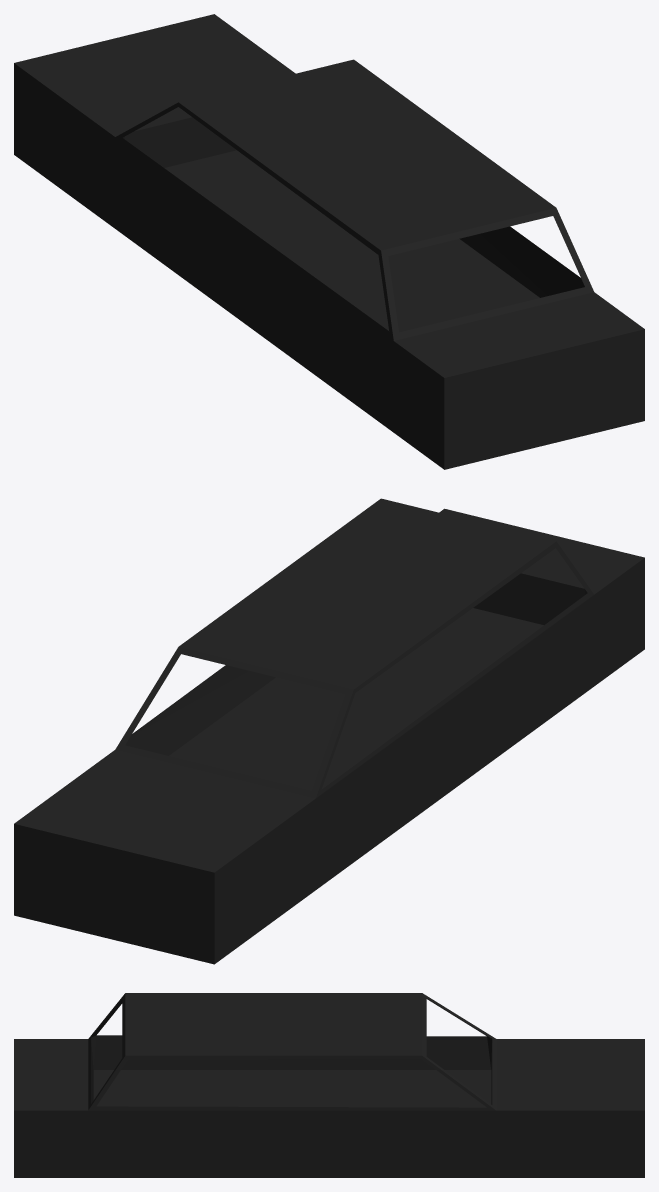
File: limo.glb
3 renders of one model, top to bottom at view 1: azimuth 30°, elevation 25°; view 2: azimuth 150°, elevation 25°; view 3: azimuth 270°, elevation 25°, orthographic. The views are drawn at different scales.
Visible parts, largest first — view 1: vehicles/limo; view 2: vehicles/limo; view 3: vehicles/limo.
Part boxes in pixels (left/top/right/bottom): vehicles/limo: left=14, top=14, right=644, bottom=469; vehicles/limo: left=14, top=498, right=644, bottom=964; vehicles/limo: left=14, top=993, right=644, bottom=1177.
Size of the model in its own units: 2 by 1.53 by 7.44.
Materials: 2 (2 with a texture image).
